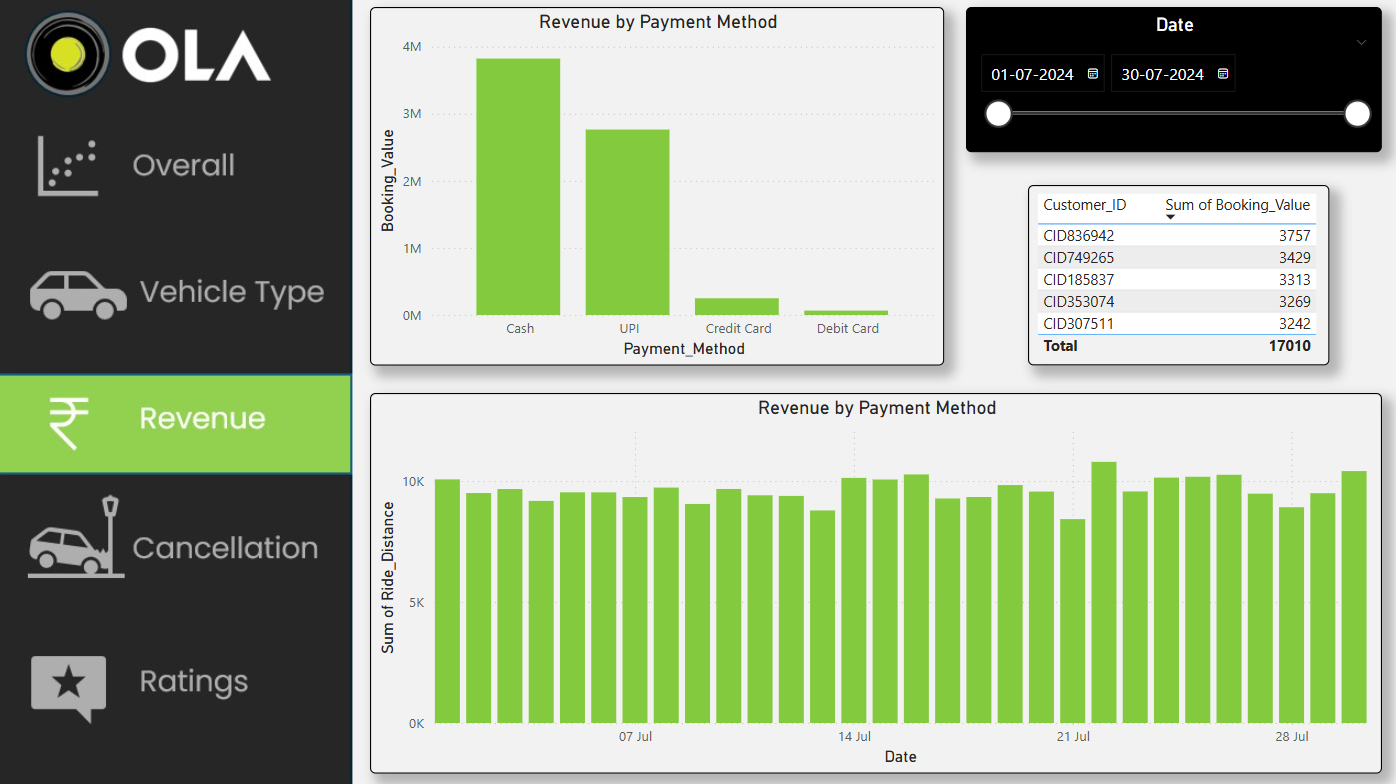

The page's visual inventory and layout, read from the dashboard file:
{"tool":"powerbi","page":{"name":"Revenue","canvas":[1280,720],"ordinal":2},"visuals":[{"type":"actionButton","box":[0,221.3,324.4,96],"z":0},{"type":"actionButton","box":[0,335.1,324.4,96],"z":1000},{"type":"actionButton","box":[0,447.1,324.4,96],"z":2000},{"type":"actionButton","box":[0,578.7,324.4,96],"z":3000},{"type":"actionButton","box":[0,104.9,324.4,96],"z":4000},{"type":"columnChart","title":"Revenue by Payment Method","fields":{"Category":["July.Payment_Method"],"Y":["Sum(July.Booking_Value)"]},"box":[340,9,522,326],"z":5000},{"type":"columnChart","title":"Revenue by Payment Method","fields":{"Category":["July.Date"],"Y":["Sum(July.Ride_Distance)"]},"box":[340,360,920,346],"z":6000},{"type":"slicer","title":"Date","fields":{"Values":["July.Date"]},"box":[882,9,378,132],"z":7000},{"type":"tableEx","title":"Top 5 Customers by Total Booking Value","fields":{"Values":["July.Customer_ID","Sum(July.Booking_Value)"]},"box":[938,171,274,164],"z":8000}]}

Visuals, with their boxes in screenshot pixels (x1, y1, x2, y2), scaled from the page's 1280x720 canvas onto the 1396x784 screenshot:
actionButton: 0/241/354/346
actionButton: 0/365/354/469
actionButton: 0/487/354/591
actionButton: 0/630/354/735
actionButton: 0/114/354/219
"Revenue by Payment Method" columnChart: 371/10/940/365
"Revenue by Payment Method" columnChart: 371/392/1374/769
"Date" slicer: 962/10/1374/154
"Top 5 Customers by Total Booking Value" tableEx: 1023/186/1322/365
